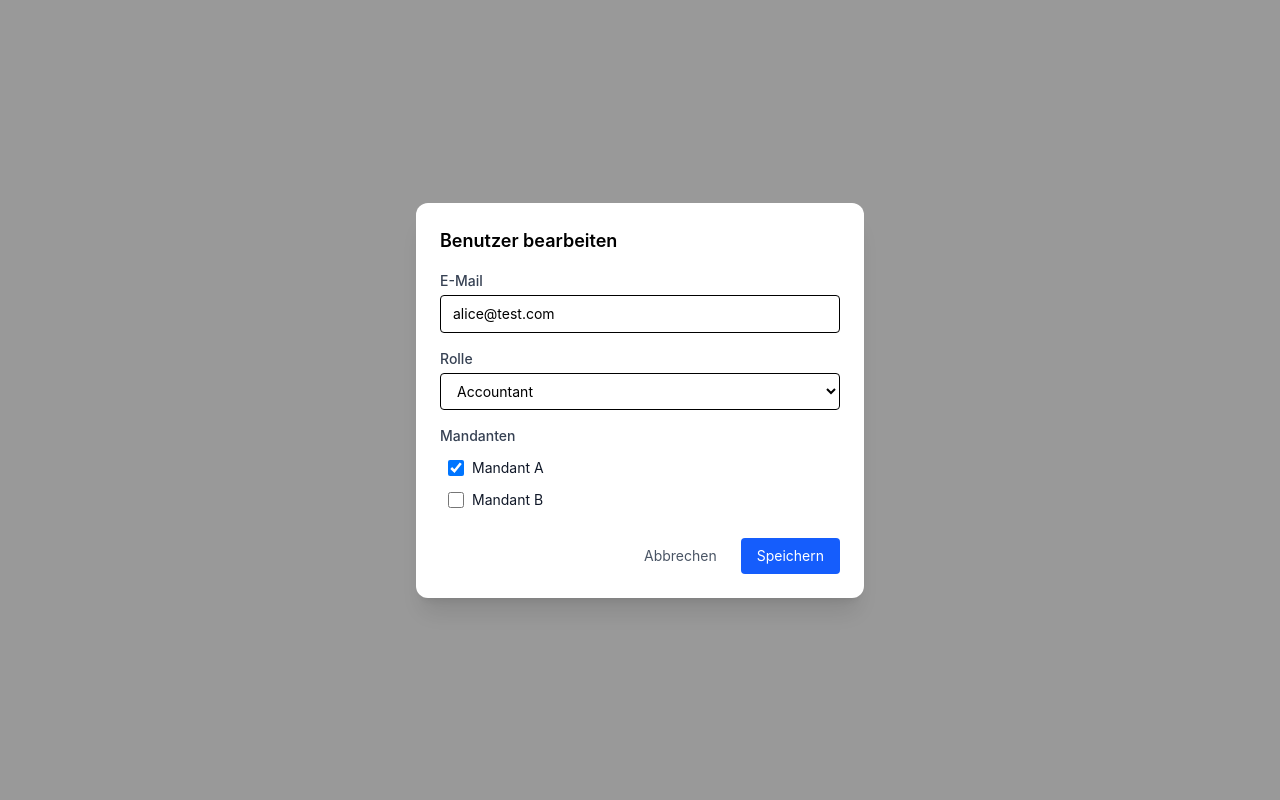
Test: UserDialog › zeigt die Fehlermeldung des Servers
Expected: the checkbox labelled "Mandant A" is shown, [448, 460, 464, 476]
What coordinates should you click on to do the following:
click the button "Speichern"
I would click on:
 (790, 556)
Its box is [741, 538, 840, 574].
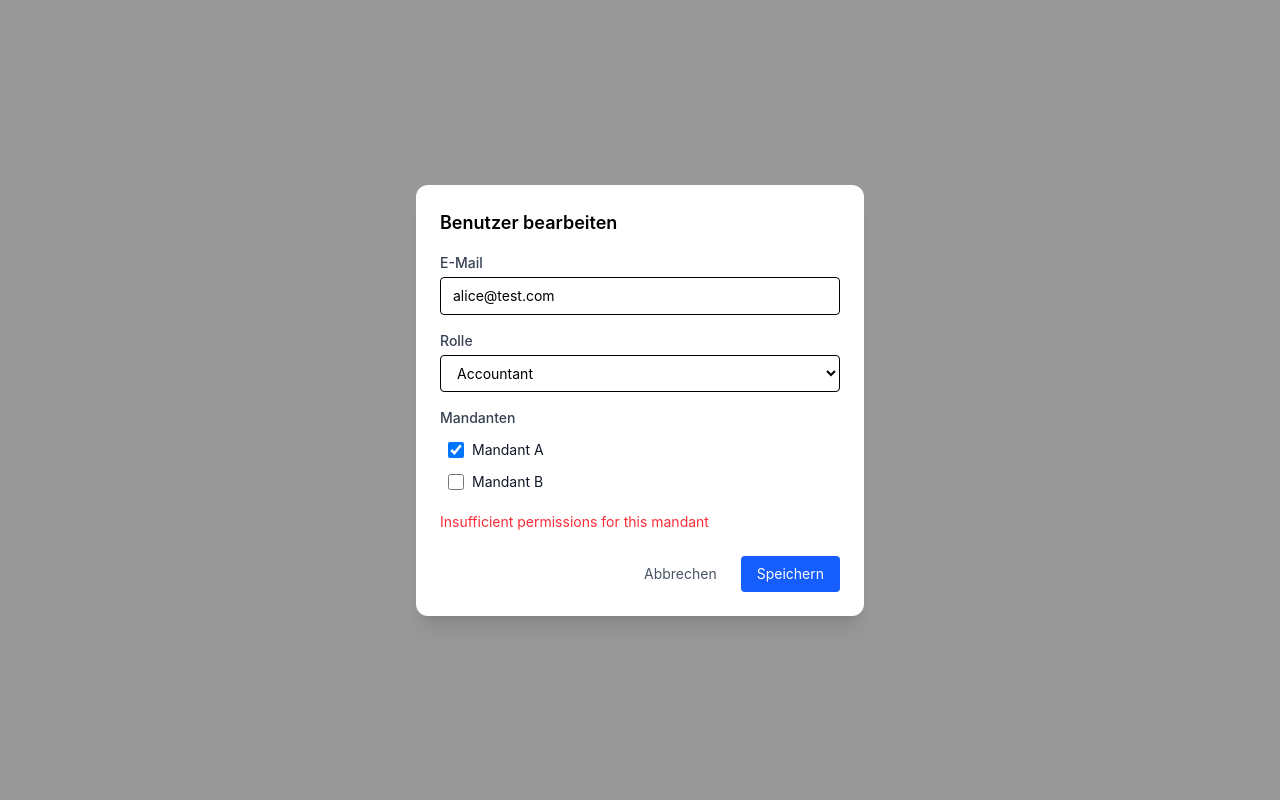
Expected: the message "Insufficient permissions for this mandant" is shown, [440, 512, 709, 530]
